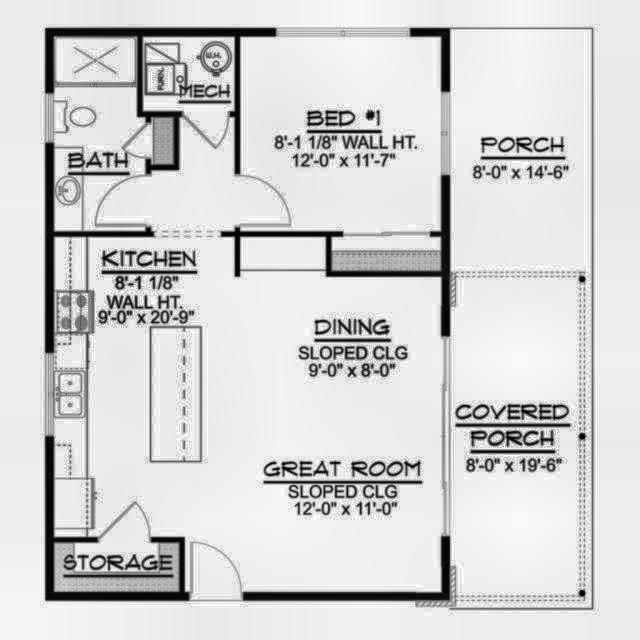room: (54, 235, 442, 593), (239, 36, 443, 232), (53, 37, 175, 232), (151, 117, 234, 232), (143, 36, 235, 112), (54, 543, 179, 591), (331, 237, 441, 271)
